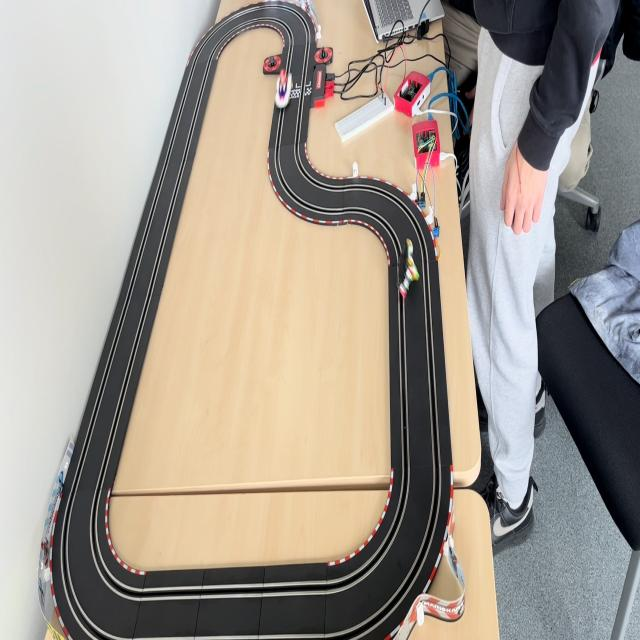mario: (276, 69, 294, 110)
yoshi: (394, 229, 426, 305)
